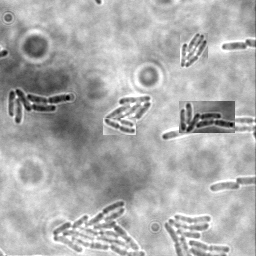Dividing: (161, 123, 255, 142), (103, 118, 136, 135), (221, 41, 248, 52)
Microcolony: (51, 200, 147, 255), (162, 212, 231, 255), (8, 89, 72, 126), (179, 101, 235, 133), (106, 96, 153, 132), (180, 33, 208, 69), (208, 182, 240, 193)
